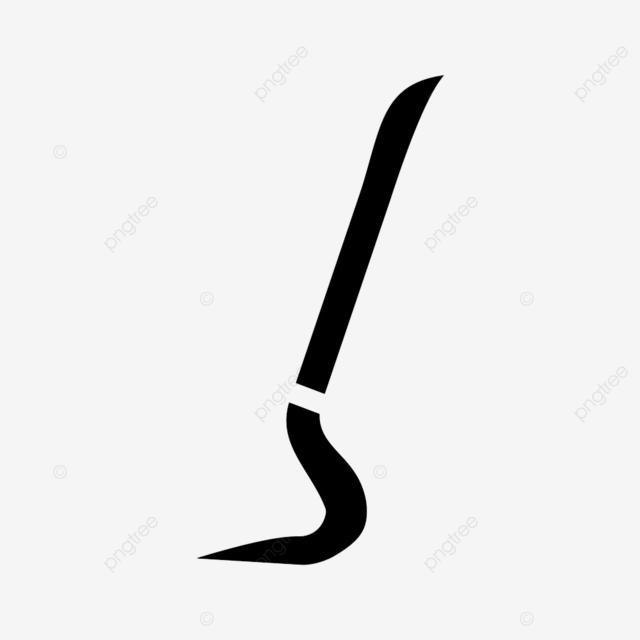Linggis: (192, 48, 456, 580)
